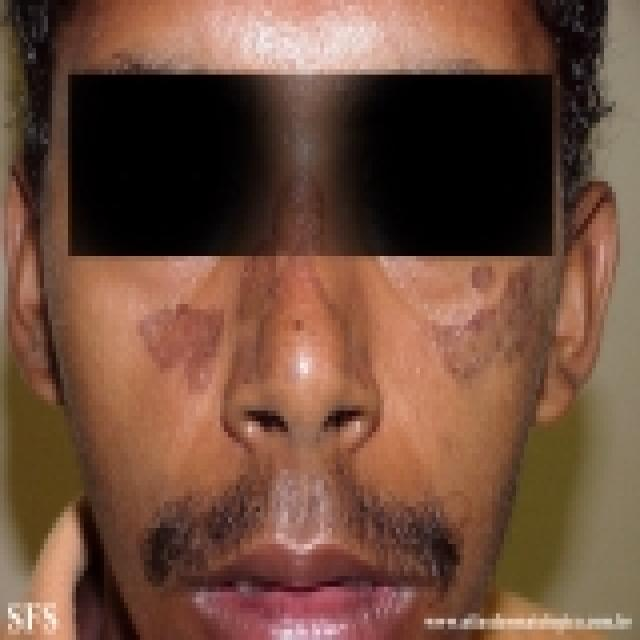lupus: (415, 259, 567, 399), (128, 286, 254, 422)
